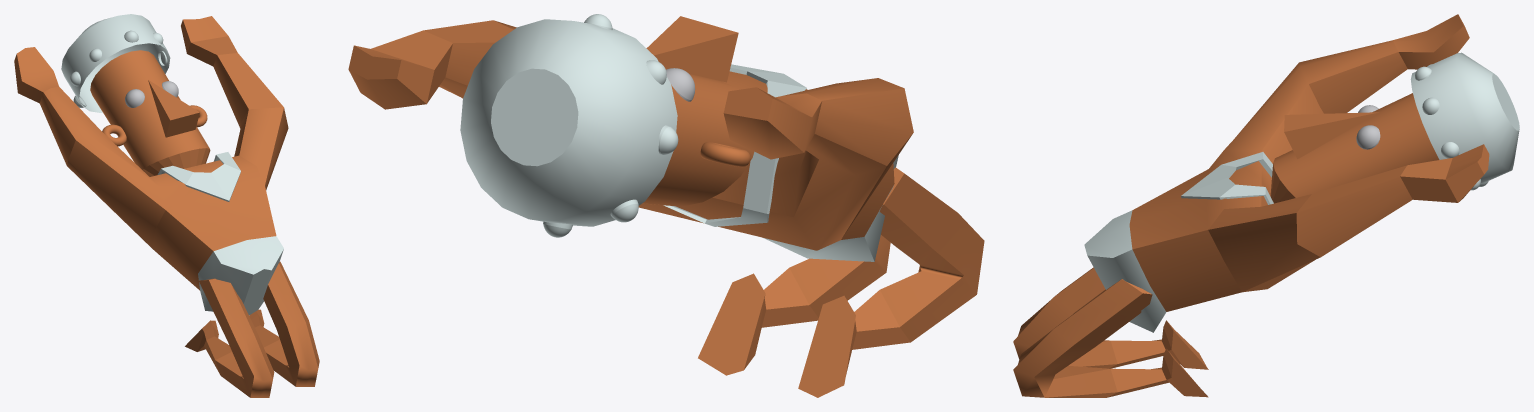
The model's file is forTylerAnimation.fbx.
3 views of the same model, side by side, from view 1: azimuth 30°, elevation 25°; view 2: azimuth 150°, elevation 25°; view 3: azimuth 270°, elevation 25° (orthographic). The views are drawn at different scales.
Visible parts, largest first — view 1: polySurface4, polySurface1, pCylinder5, pCylinder4, pCylinder6, polySurface5, pCube2, pPyramid1, pTorus1, polySurface2; view 2: pCylinder6, polySurface4, pCylinder5, pCylinder4, polySurface1, pPyramid1, pCube2, polySurface5, pTorus1, polySurface2; view 3: polySurface4, pCylinder4, pCylinder6, polySurface1, pCylinder5, polySurface5, pPyramid1, pCube2, polySurface3.
Boxes of the visible parts, x1,y1,x2,y2 form: polySurface4: (14,16,288,290); polySurface1: (90,50,210,176); pCylinder5: (185,278,274,397); pCylinder4: (249,261,319,386); pCylinder6: (61,14,170,112); polySurface5: (198,236,283,315); pCube2: (157,152,240,201); pPyramid1: (148,80,199,137); pTorus1: (102,124,126,146); polySurface2: (125,89,144,107); pCylinder6: (460,19,677,226); polySurface4: (348,20,913,250); pCylinder5: (798,167,984,397); pCylinder4: (698,235,890,375); polySurface1: (642,68,754,206); pPyramid1: (646,16,738,82); pCube2: (663,64,806,226); polySurface5: (763,155,898,261); pTorus1: (700,142,750,167); polySurface2: (666,68,695,101); polySurface4: (1129,14,1489,311); pCylinder4: (1013,279,1208,397); pCylinder6: (1410,52,1519,184); polySurface1: (1270,93,1439,203); pCylinder5: (1013,267,1208,369); polySurface5: (1084,210,1166,332); pPyramid1: (1284,112,1379,159); pCube2: (1181,152,1273,204); polySurface3: (1356,125,1380,149).
Bounding box in the file's own units: 2.44 × 2.72 × 3.85.
